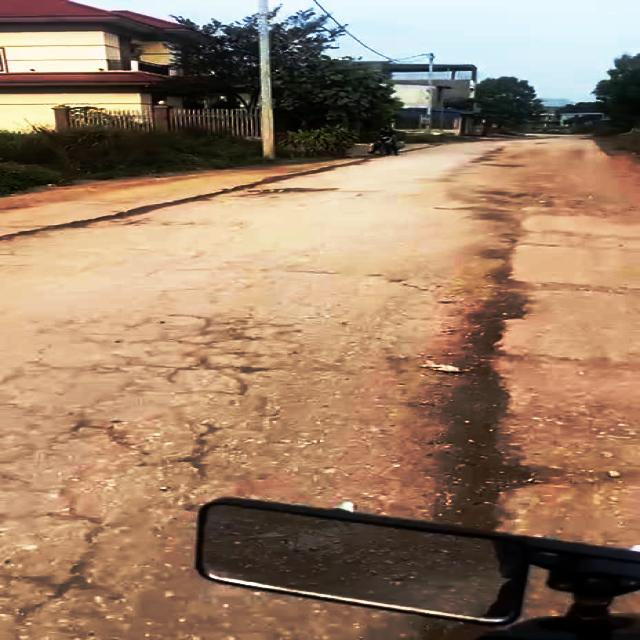pothole: (430, 276, 545, 551)
